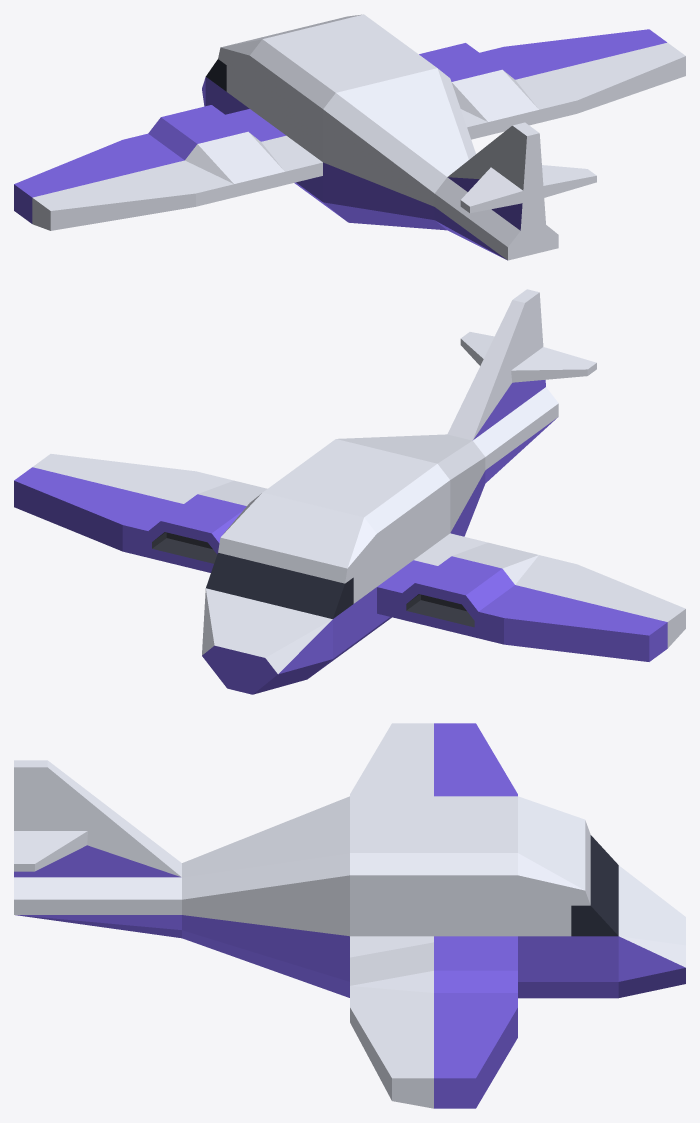
3 views of the same model, one above another, from view 1: azimuth 30°, elevation 25°; view 2: azimuth 150°, elevation 25°; view 3: azimuth 270°, elevation 25° (orthographic). The views are drawn at different scales.
Parts seen in each view (by area): view 1: mergedBlocks(Clone); view 2: mergedBlocks(Clone); view 3: mergedBlocks(Clone).
Boxes of the visible parts, left/top/right/bottom form: mergedBlocks(Clone): left=14, top=14, right=685, bottom=260; mergedBlocks(Clone): left=14, top=289, right=685, bottom=694; mergedBlocks(Clone): left=14, top=723, right=685, bottom=1108.
Size of the model in its own units: 5 by 1.4 by 4.
